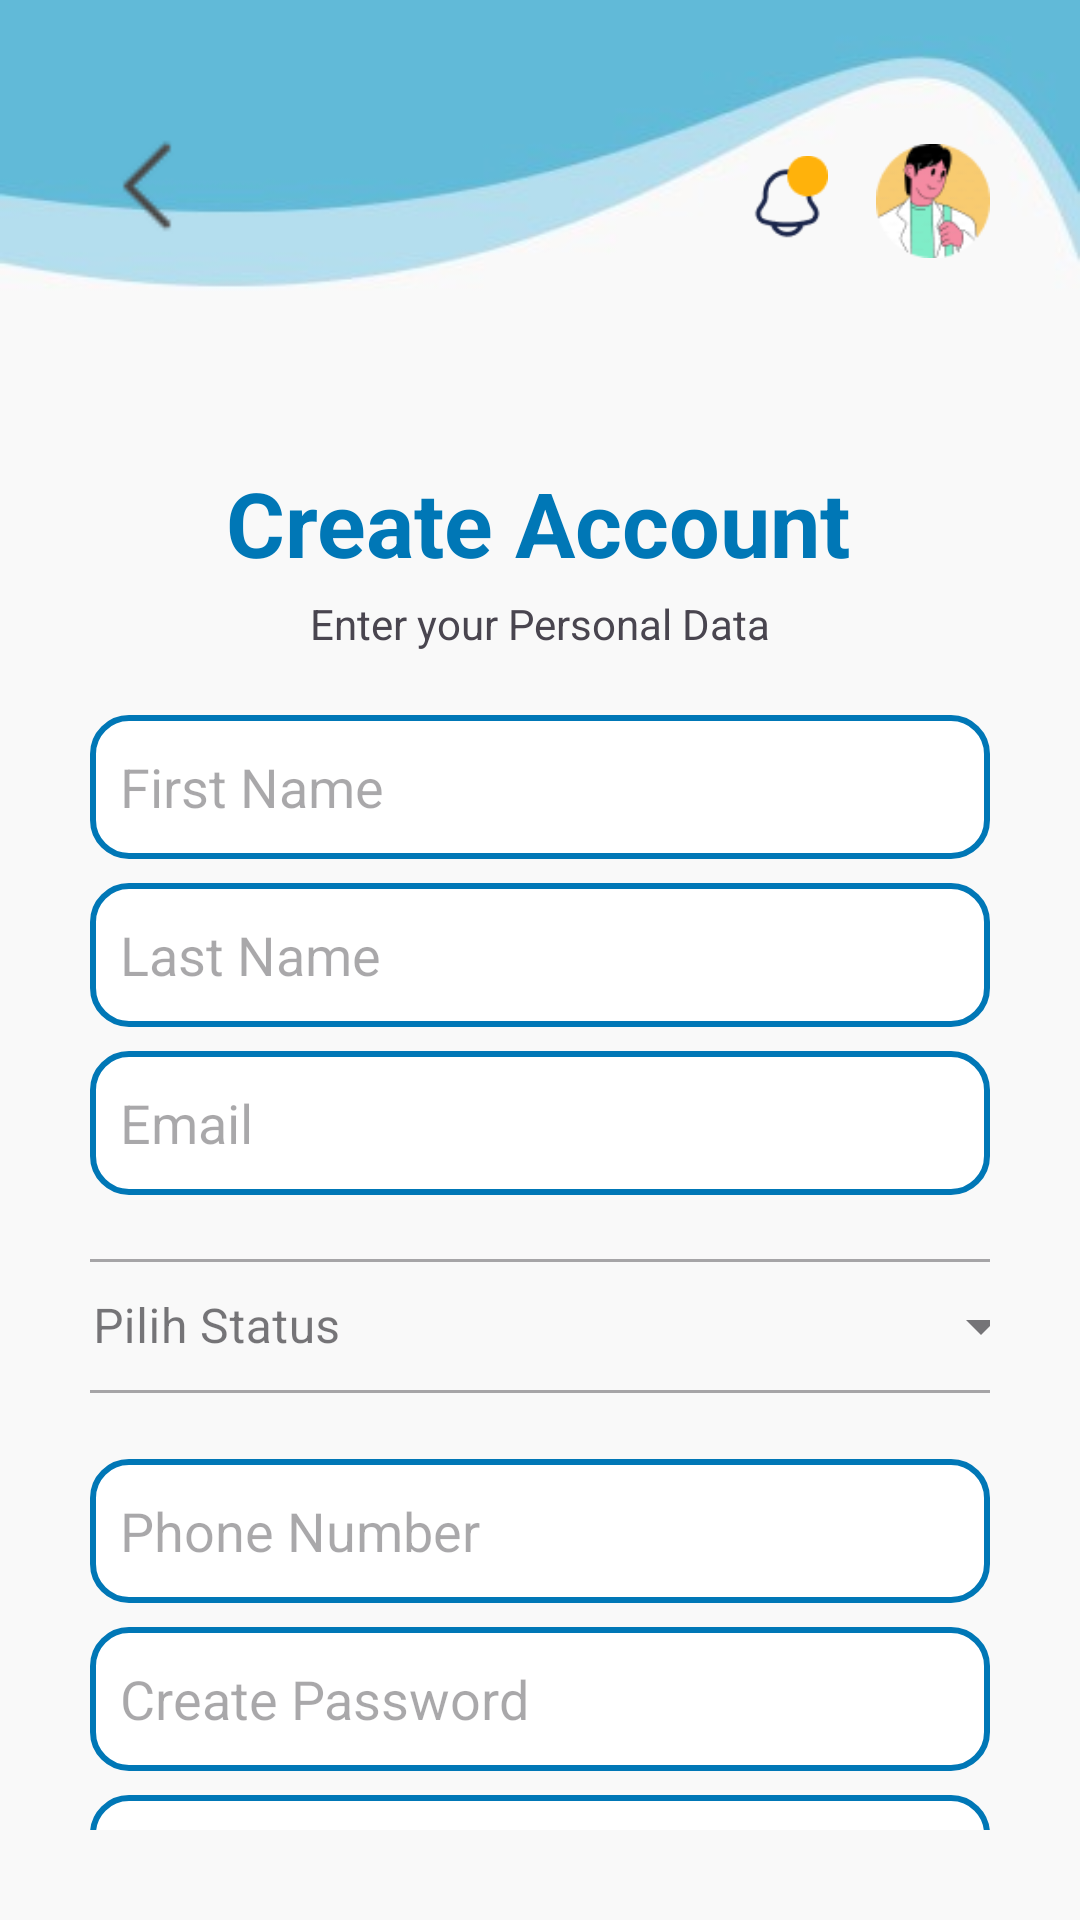

Icons on this 1080 × 1920 Android screen, each with its box as (x1, y1, x2, y2):
back: (96, 142, 198, 234)
notifikasi: (755, 156, 828, 238)
profile: (876, 144, 990, 258)
